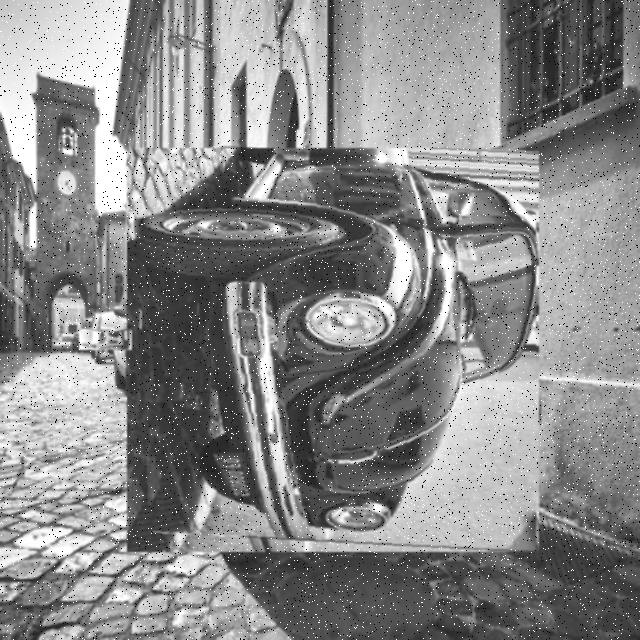car: (130, 149, 537, 555), (88, 322, 125, 360)
